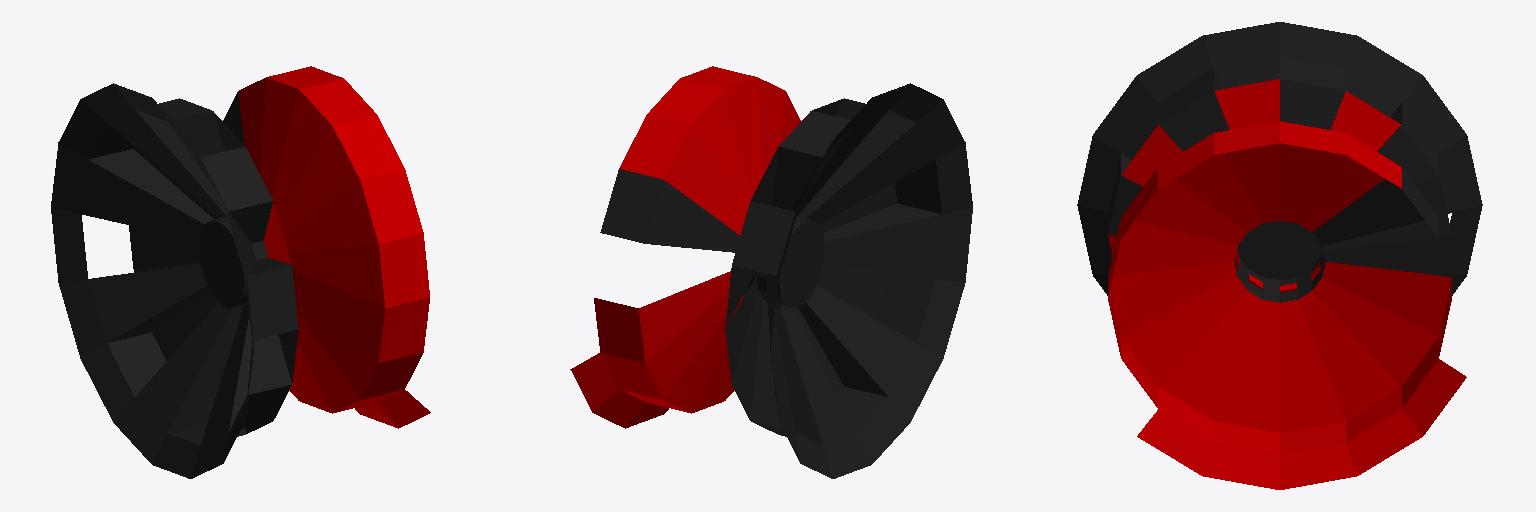
Rendered from carLeftTireFrame.obj.
3 views of the same model, side by side, from view 1: azimuth 30°, elevation 25°; view 2: azimuth 150°, elevation 25°; view 3: azimuth 270°, elevation 25° (orthographic).
Parts seen in each view (by area): view 1: leftTireFrame_Cube.006; view 2: leftTireFrame_Cube.006; view 3: leftTireFrame_Cube.006.
Boxes of the visible parts, box(x1,y1,x2,y2) form: leftTireFrame_Cube.006: box(51, 66, 430, 478); leftTireFrame_Cube.006: box(570, 66, 972, 478); leftTireFrame_Cube.006: box(1077, 22, 1482, 489).
Bounding box in the file's own units: 0.3232 × 0.546 × 0.546.